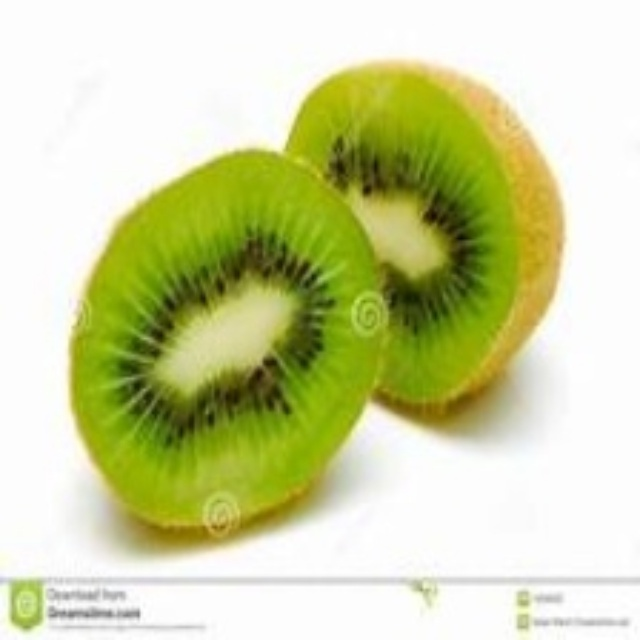kiwi: (67, 149, 380, 531), (285, 57, 562, 410)
